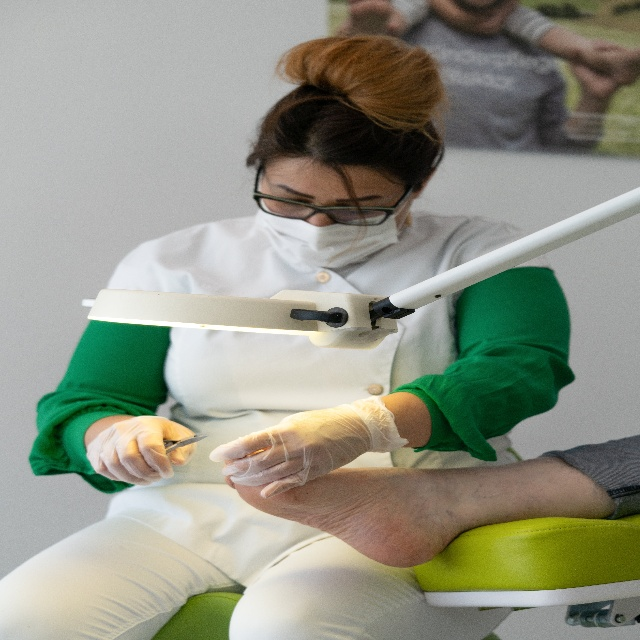Gafas: (253, 164, 411, 227)
Guantes: (209, 394, 408, 498), (86, 415, 199, 486)
Mascara: (255, 198, 412, 275)
